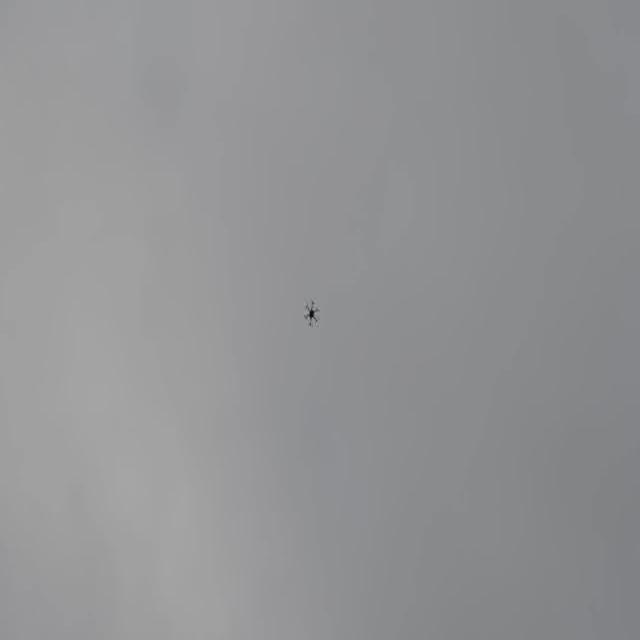drone: (301, 295, 321, 330)
